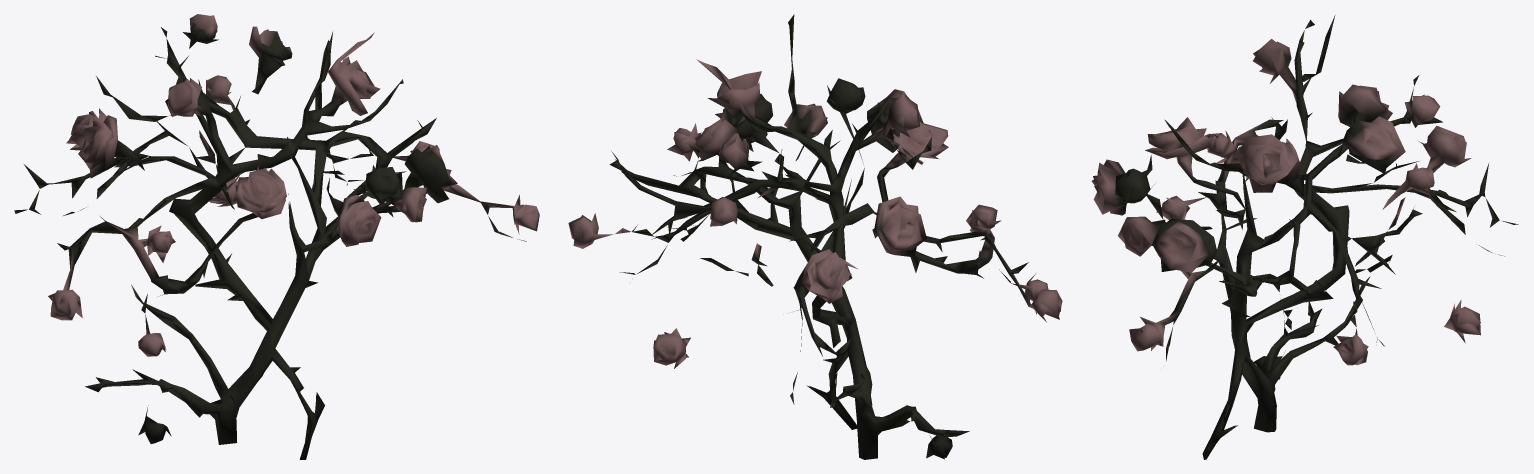
The model's file is wh-bush-snare-pixelated.glb.
3 renders of one model, left to right at view 1: azimuth 30°, elevation 25°; view 2: azimuth 150°, elevation 25°; view 3: azimuth 270°, elevation 25°, orthographic.
Visible parts, largest first — view 1: wh-bush-snare; view 2: wh-bush-snare; view 3: wh-bush-snare.
Part boxes in pixels (x1,y1,x2,y2): wh-bush-snare: [14, 14, 539, 459]; wh-bush-snare: [568, 14, 1062, 459]; wh-bush-snare: [1091, 15, 1518, 459].
Bounding box in the file's own units: 1.9 × 1.62 × 1.6.
